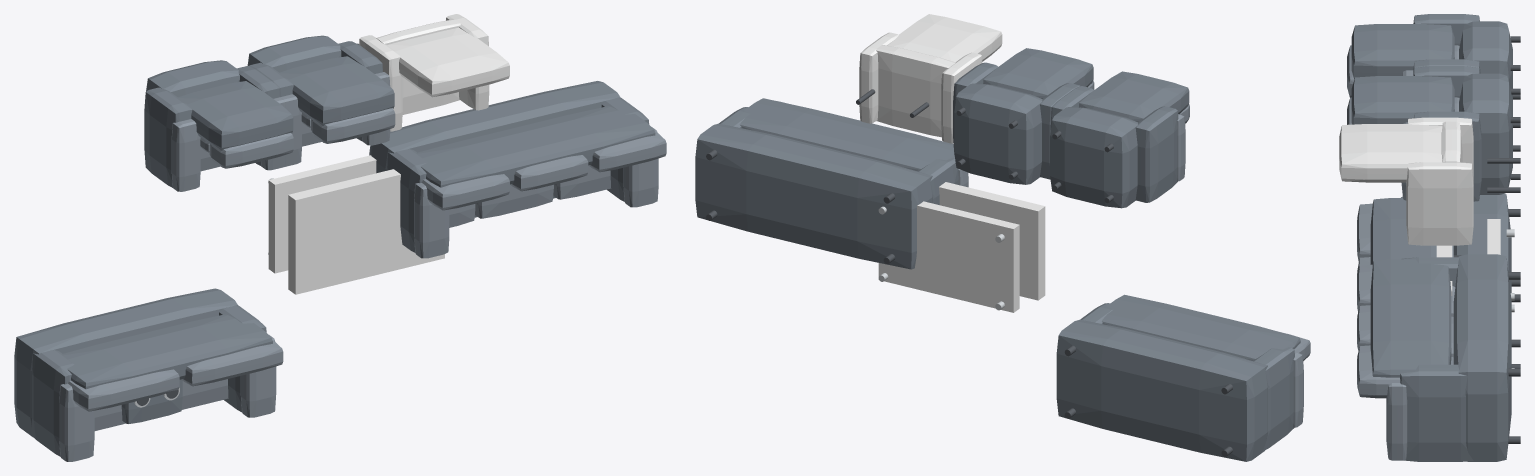
Rendered from charcoal-leather-set.glb.
The picture shows the model from 3 angles, left to right: view 1: azimuth 30°, elevation 25°; view 2: azimuth 150°, elevation 25°; view 3: azimuth 270°, elevation 25°; orthographic projection. The views are drawn at different scales.
Parts seen in each view (by area): view 1: Right three-seat sofa upholstered base, Right three-seat sofa seat cushion 1, White accent chair seat; view 2: Right three-seat sofa upholstered base, White accent chair seat, Right three-seat sofa seat cushion 1, Right three-seat sofa foot 1.13--0.18; view 3: Right three-seat sofa upholstered base, White accent chair seat, Right three-seat sofa seat cushion 1, Right three-seat sofa foot 1.13--0.18.
Boxes of the visible parts, x1,y1,x2,y2 form: Right three-seat sofa upholstered base: (14,35,655,456); Right three-seat sofa seat cushion 1: (59,72,666,461); White accent chair seat: (268,14,509,294); Right three-seat sofa upholstered base: (695,48,1300,461); White accent chair seat: (859,14,1045,312); Right three-seat sofa seat cushion 1: (777,80,1310,427); Right three-seat sofa foot 1.13--0.18: (706,89,1232,456); Right three-seat sofa upholstered base: (1351,14,1512,461); White accent chair seat: (1339,117,1500,295); Right three-seat sofa seat cushion 1: (1347,45,1459,460); Right three-seat sofa foot 1.13--0.18: (1453,36,1520,443).
Bounding box in the file's own units: 6.44 × 3.37 × 1.62.
